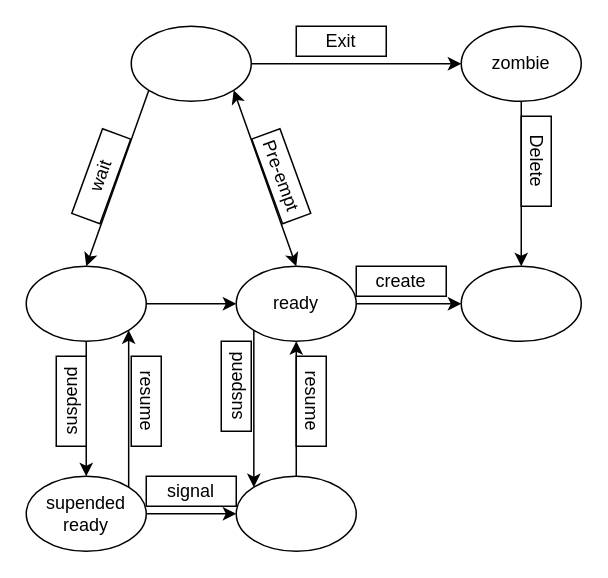
The diagram is 608 pixels wide and 578 high, and some of its shapes have lost their labels. Each missing label, with the centre of its shape:
block: pixel 85 303
Non-existent: pixel 520 303
running: pixel 190 63
suspended block: pixel 295 513
